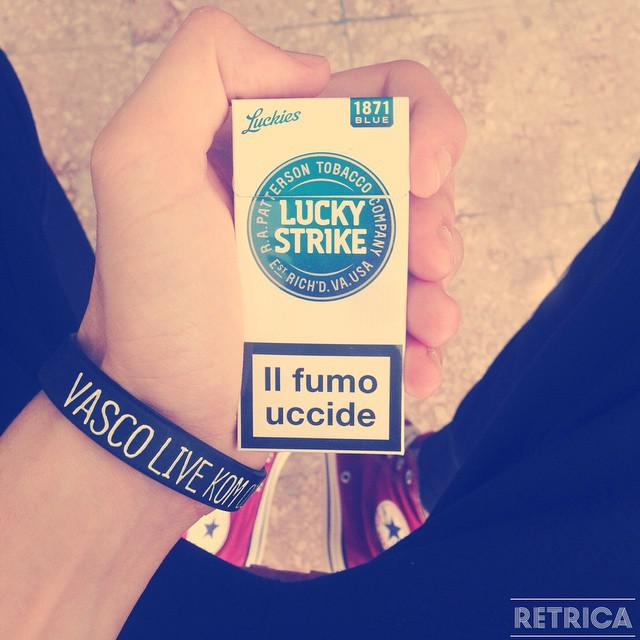lucky_strike_blue: (233, 101, 408, 449)
